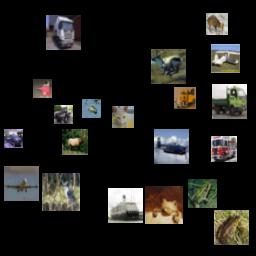airplane: (154, 129, 189, 164), (4, 166, 39, 201), (211, 44, 240, 73)
automobile: (4, 129, 23, 148)
bird: (42, 173, 80, 211)
cat: (112, 106, 134, 128)
deer: (151, 49, 186, 84), (62, 129, 88, 155), (206, 13, 228, 35)
dog: (33, 79, 52, 98)
frog: (145, 186, 183, 224), (214, 210, 249, 245), (188, 179, 217, 208), (82, 99, 101, 118)
ship: (108, 188, 143, 223)
truck: (46, 15, 81, 50), (212, 84, 247, 119), (211, 136, 237, 162), (174, 87, 196, 109), (54, 105, 73, 124)
